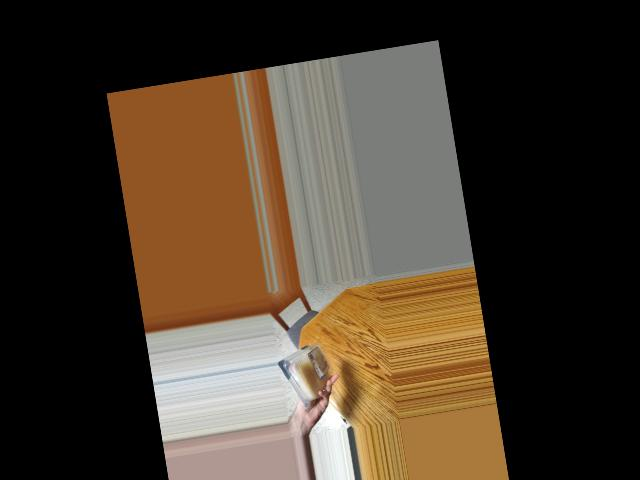cheese: (279, 342, 335, 404)
